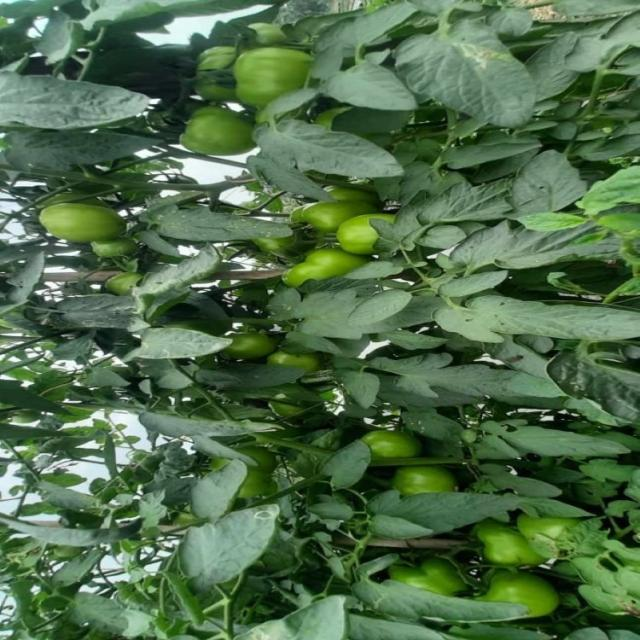tomato: (471, 561, 566, 623), (232, 46, 319, 108), (177, 104, 256, 163), (474, 505, 540, 573), (32, 198, 139, 236), (278, 248, 356, 296), (397, 550, 462, 606), (385, 459, 459, 507), (336, 206, 394, 256), (293, 189, 363, 230), (518, 510, 569, 559), (105, 268, 152, 314), (361, 423, 415, 460), (192, 39, 230, 90), (269, 350, 349, 373), (227, 316, 261, 361), (83, 234, 130, 261)
